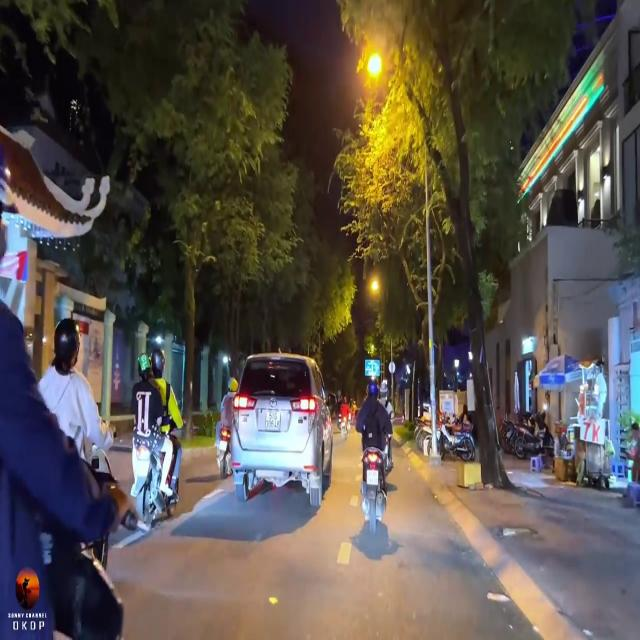bien_trang: (264, 408, 282, 432)
